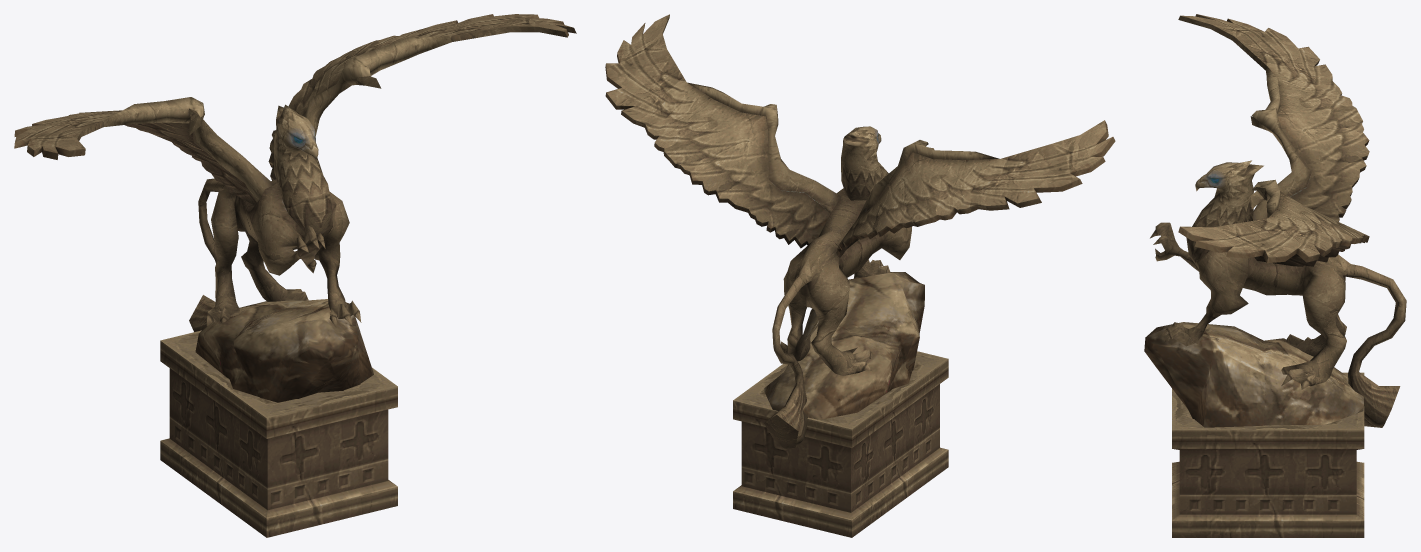
The model's file is SC_tamalagebi_12.FBX.
The picture shows the model from 3 angles, left to right: view 1: azimuth 30°, elevation 25°; view 2: azimuth 150°, elevation 25°; view 3: azimuth 270°, elevation 25°; orthographic projection. The views are drawn at different scales.
Visible parts, largest first — view 1: SC_tamalagebi_12; view 2: SC_tamalagebi_12; view 3: SC_tamalagebi_12.
Part boxes in pixels (x1,y1,x2,y2): SC_tamalagebi_12: (14,14,576,537); SC_tamalagebi_12: (605,14,1115,537); SC_tamalagebi_12: (1144,14,1406,537).
Bounding box in the file's own units: 925 × 713 × 438.
